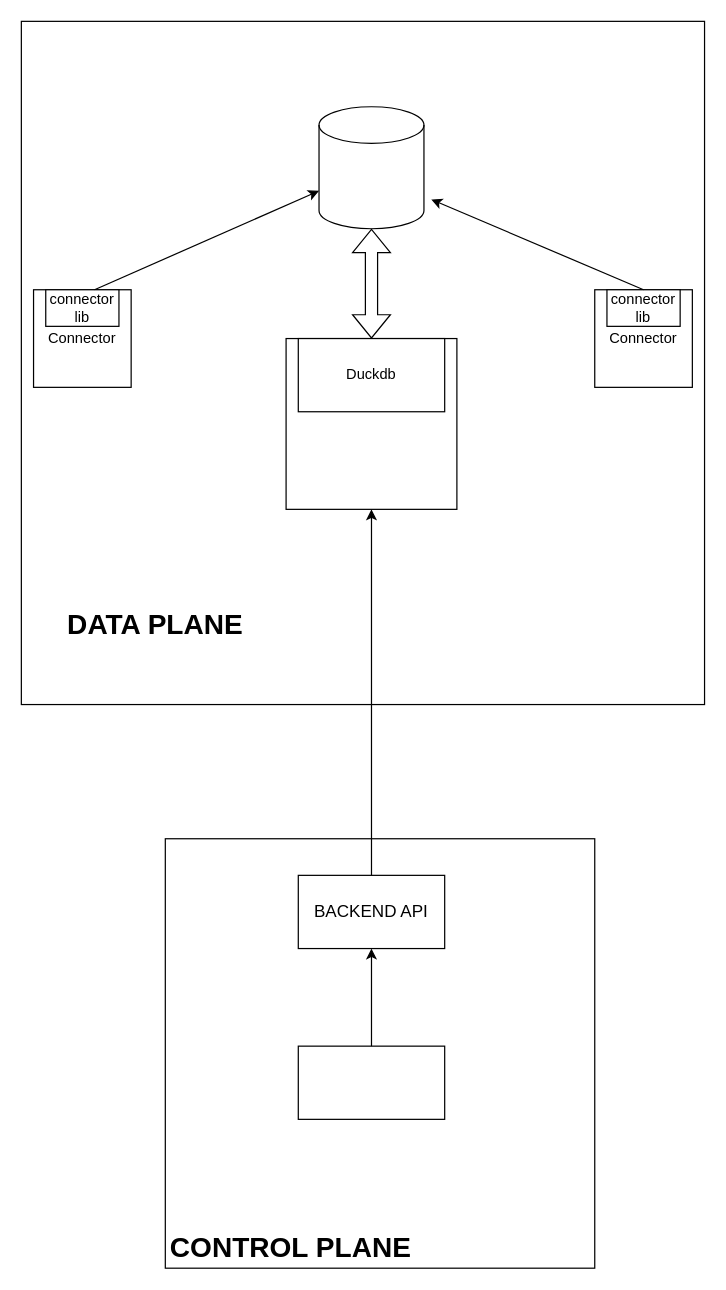
The diagram is 726 pixels wide and 1290 high, and some of its shapes have lost their labels. Each missing label, with the box of its shape:
Activation Engine: (285, 337, 457, 509)
Intermediate Storage: (318, 106, 424, 229)
UI: (297, 1045, 445, 1119)
